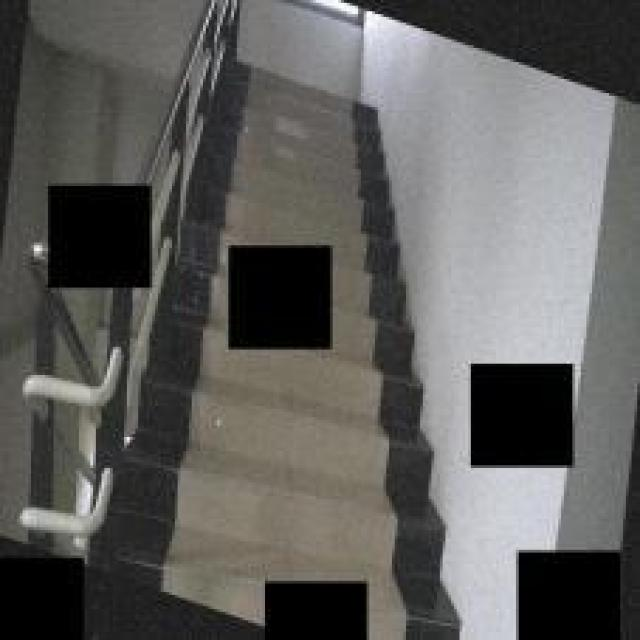upstair: (218, 46, 404, 246)
